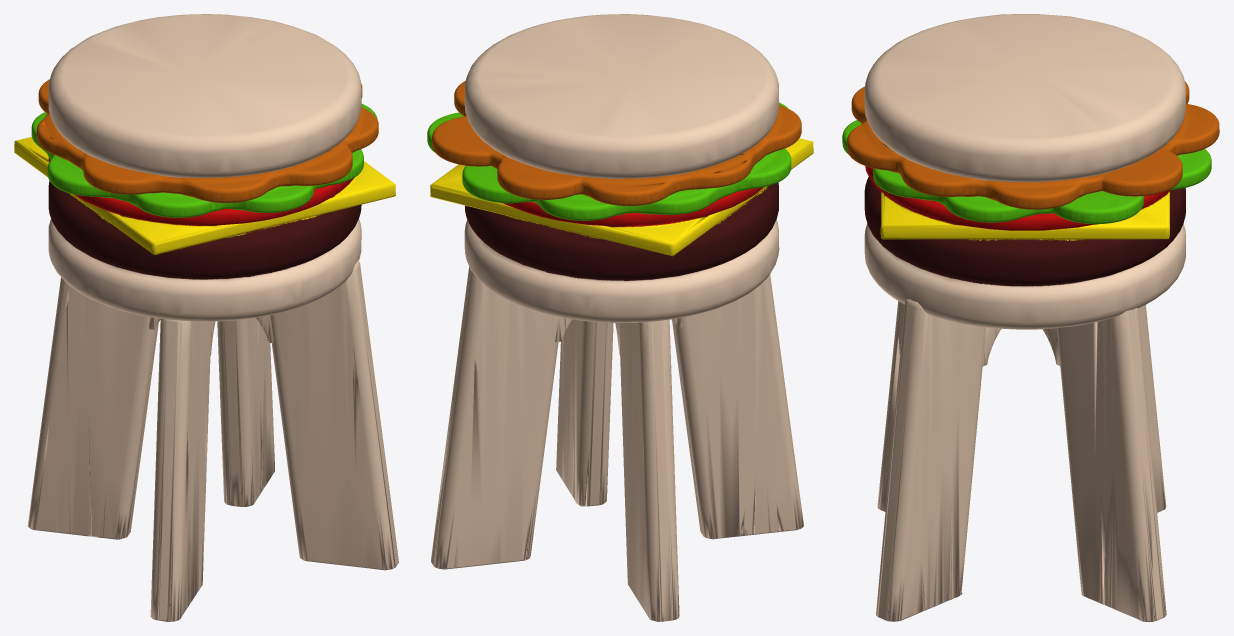
The model's file is burger stool.gltf.
3 renders of one model, left to right at view 1: azimuth 30°, elevation 25°; view 2: azimuth 150°, elevation 25°; view 3: azimuth 270°, elevation 25°, orthographic. The views are drawn at different scales.
Parts seen in each view (by area): view 1: 125767_22_12_15_04_37_19_5; view 2: 125767_22_12_15_04_37_19_5; view 3: 125767_22_12_15_04_37_19_5.
Part boxes in pixels (x1,y1,x2,y2): 125767_22_12_15_04_37_19_5: (14, 14, 398, 621); 125767_22_12_15_04_37_19_5: (427, 14, 813, 621); 125767_22_12_15_04_37_19_5: (842, 14, 1219, 621).
Size of the model in its own units: 0.6985 by 1 by 0.7105.
6 materials, 6 textured.
